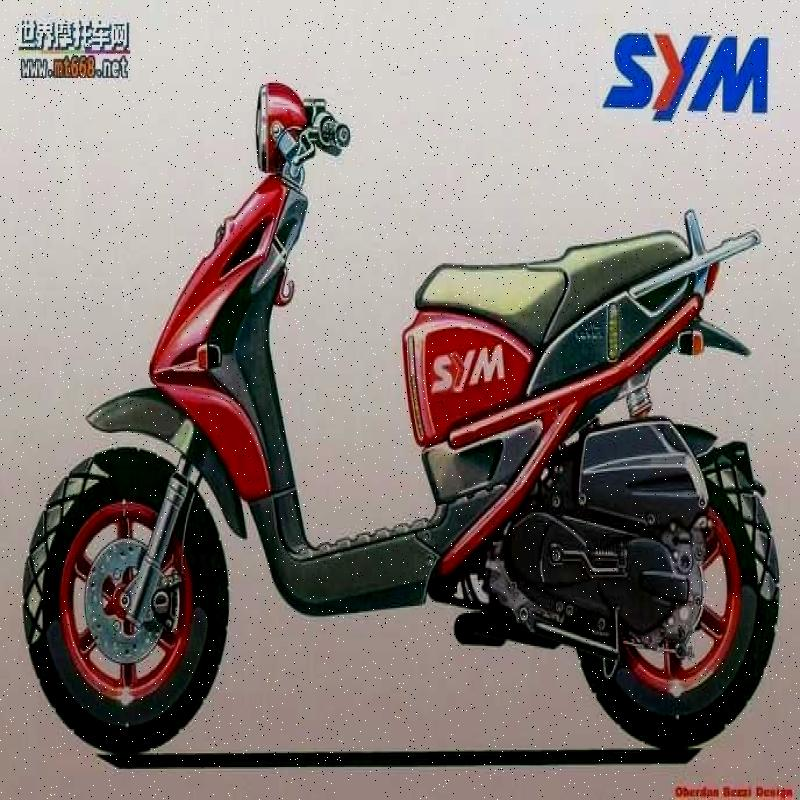bike: (49, 65, 768, 750)
